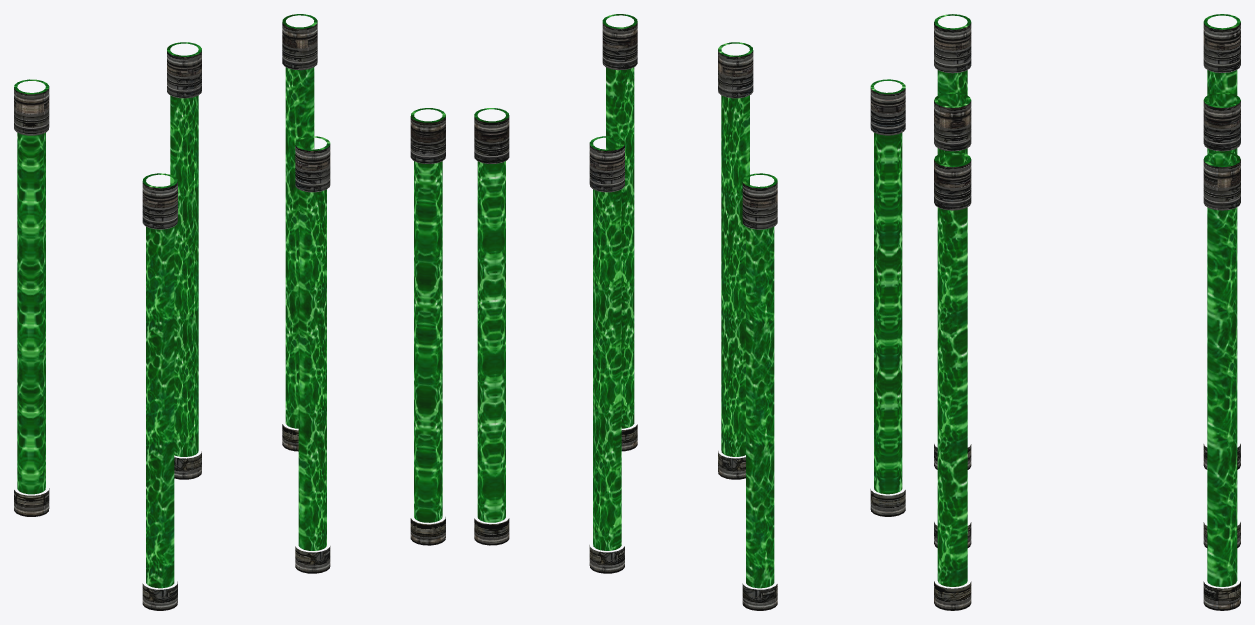
Rendered from prop_green_tubes.gltf.
3 renders of one model, left to right at view 1: azimuth 30°, elevation 25°; view 2: azimuth 150°, elevation 25°; view 3: azimuth 270°, elevation 25°, orthographic. The views are drawn at different scales.
Visible parts, largest first — view 1: green_tubes; view 2: green_tubes; view 3: green_tubes.
Boxes of the visible parts, bbox=[...] form: green_tubes: bbox=[14, 14, 445, 610]; green_tubes: bbox=[474, 14, 905, 610]; green_tubes: bbox=[934, 14, 1240, 610].
Size of the model in its own units: 17.18 by 23.2 by 14.53.
3 materials, 3 textured.
